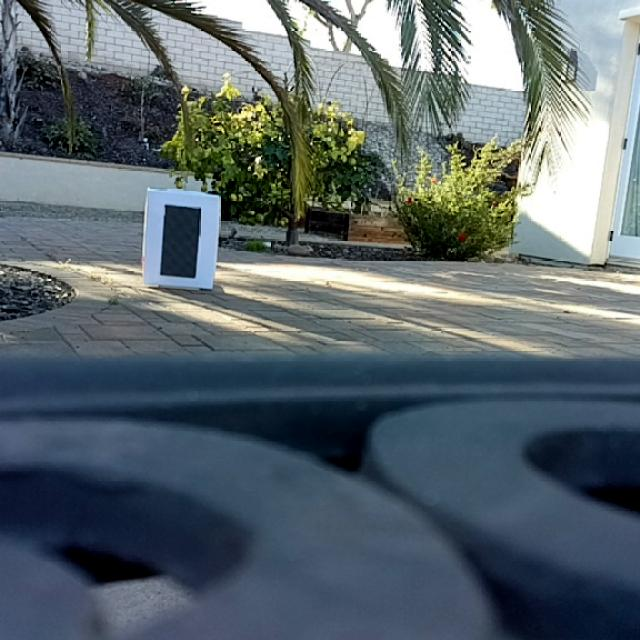led: (160, 201, 203, 280)
